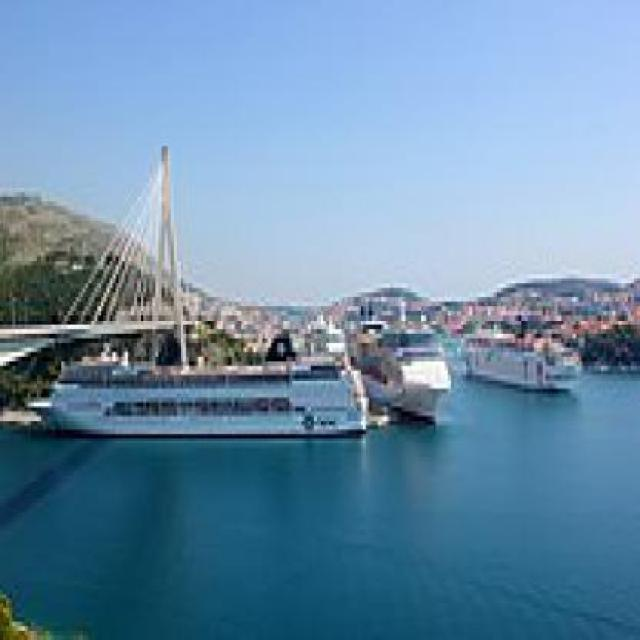cruise: (74, 303, 373, 454)
